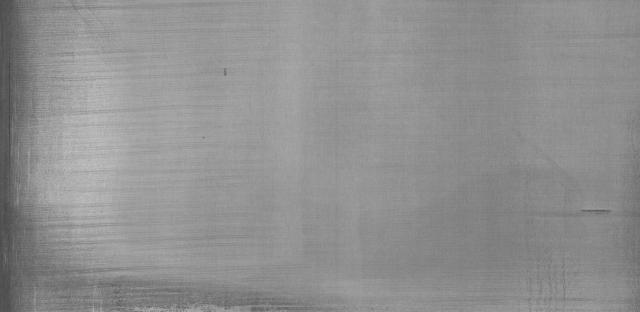waist_folding: (31, 58, 303, 292)
